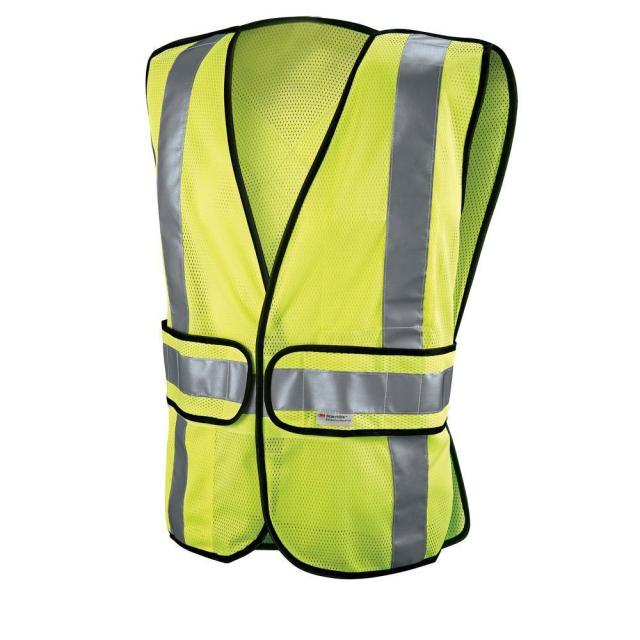Vest: (144, 19, 516, 581)
